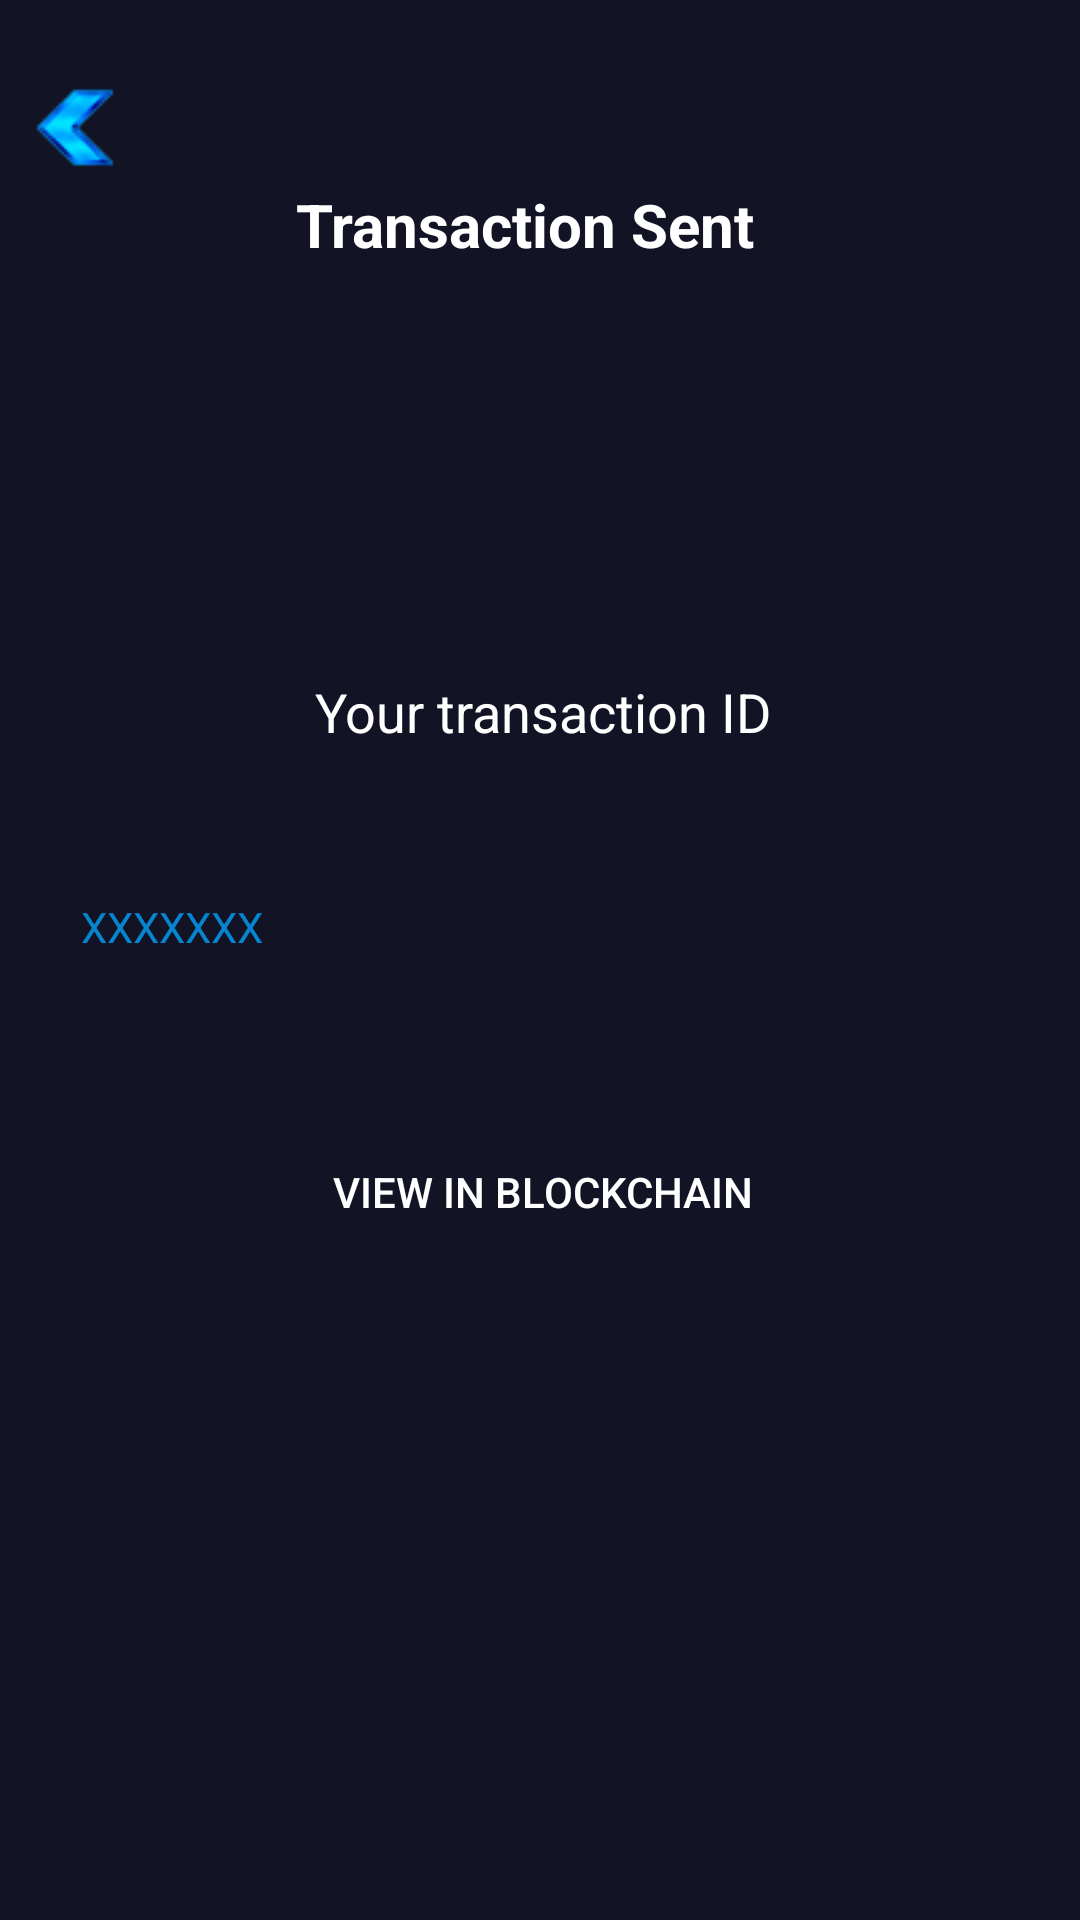

Icon click points for this 1080 x 1920 phone screenshot, format (x=x, y=y):
arrow left: (x=75, y=127)
